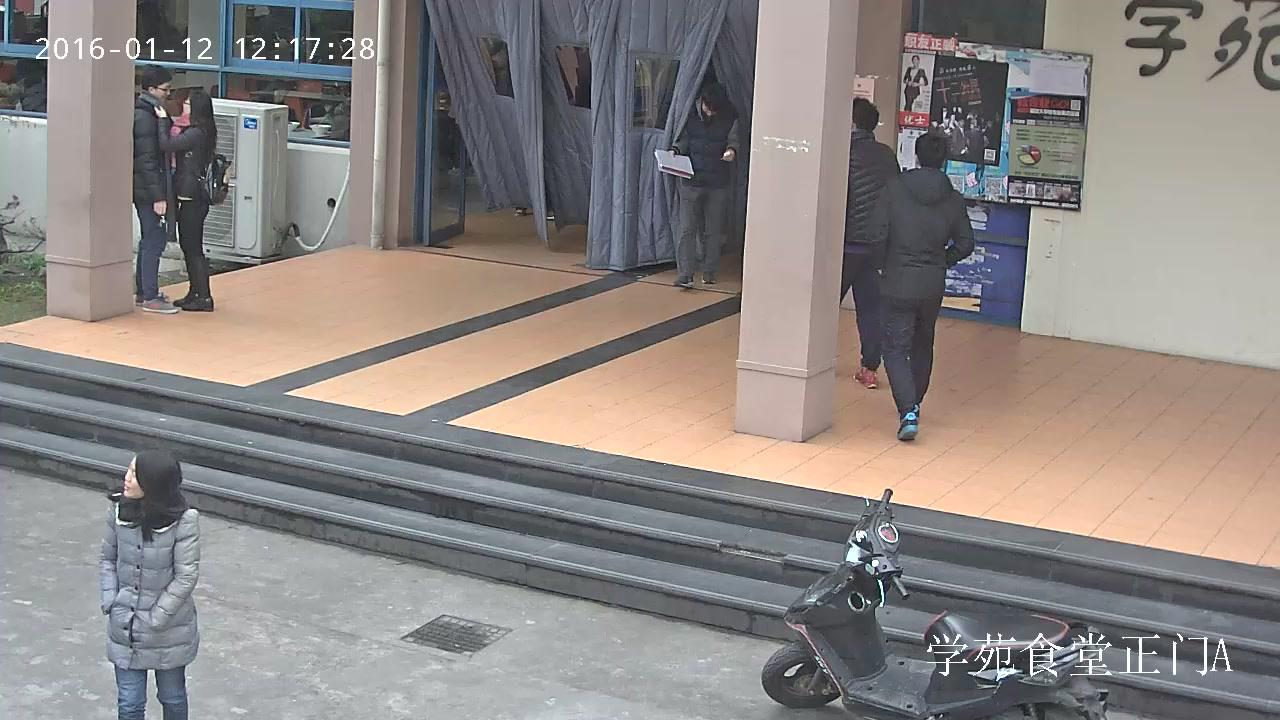person: (869, 133, 974, 440), (100, 448, 198, 720), (654, 83, 739, 289), (840, 98, 899, 388), (153, 89, 227, 311), (133, 65, 182, 314), (320, 84, 350, 141), (903, 54, 927, 112)
